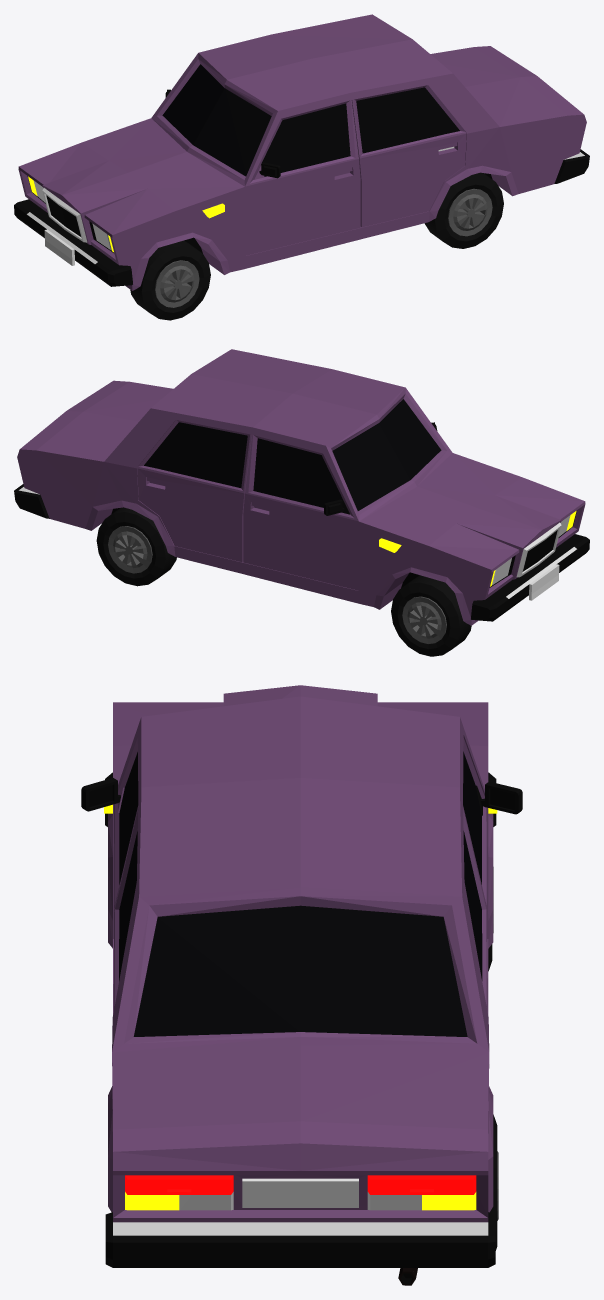
File: lada.fbx
The picture shows the model from 3 angles, top to bottom: view 1: azimuth 30°, elevation 25°; view 2: azimuth 150°, elevation 25°; view 3: azimuth 270°, elevation 25°; orthographic projection. The views are drawn at different scales.
Visible parts, largest first — view 1: Plane002; view 2: Plane002; view 3: Plane002.
Boxes of the visible parts, x1,y1,x2,y2 form: Plane002: (14,14,589,320); Plane002: (14,349,589,656); Plane002: (81,685,522,1285).
Size of the model in its own units: 317 by 115 by 125.
